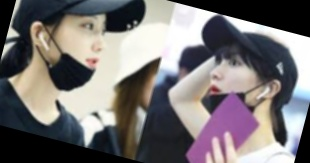earphone: (25, 20, 55, 52), (255, 76, 283, 106)
